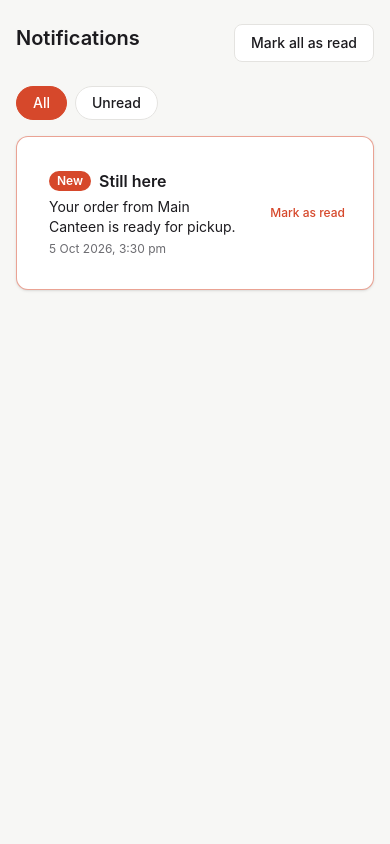
Test: NotificationsView — mark all read › a failure is reported, nothing is claimed read, and the list is re-read from the server
Expected: the text "Still here" is shown, [99, 169, 166, 193]
Click the button "Mark all as read" at point(304, 43), box [234, 24, 374, 62]
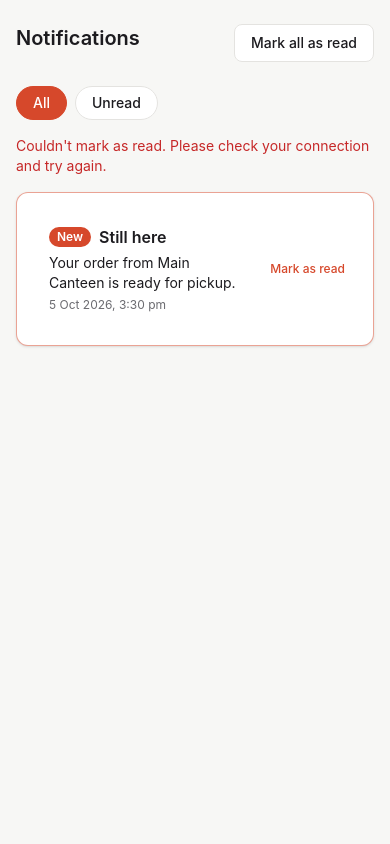
Expected: the text "New" is shown, [49, 227, 91, 247]
Expected: the message shows "Couldn't mark as read.", [16, 137, 369, 174]
